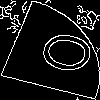O: (25, 24, 98, 78)
